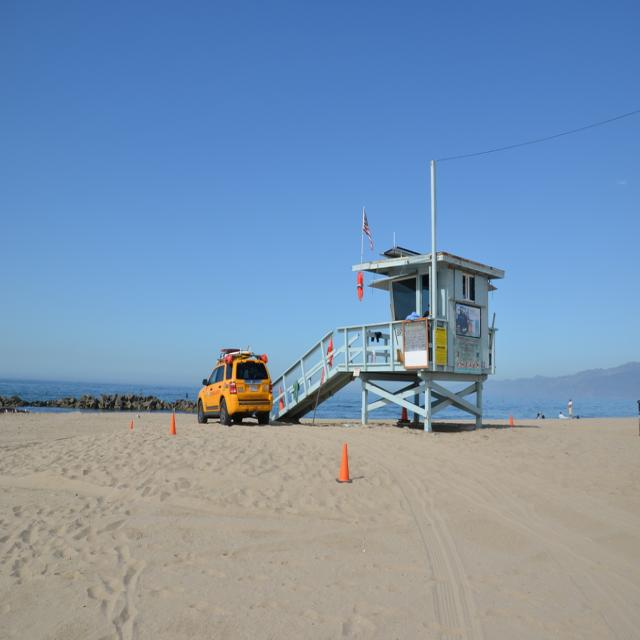car: (192, 341, 276, 429)
